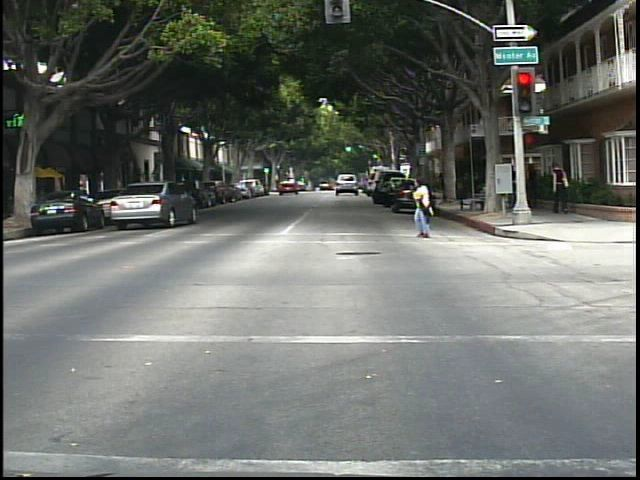person: (407, 175, 444, 243), (550, 158, 576, 219), (526, 158, 546, 214)
